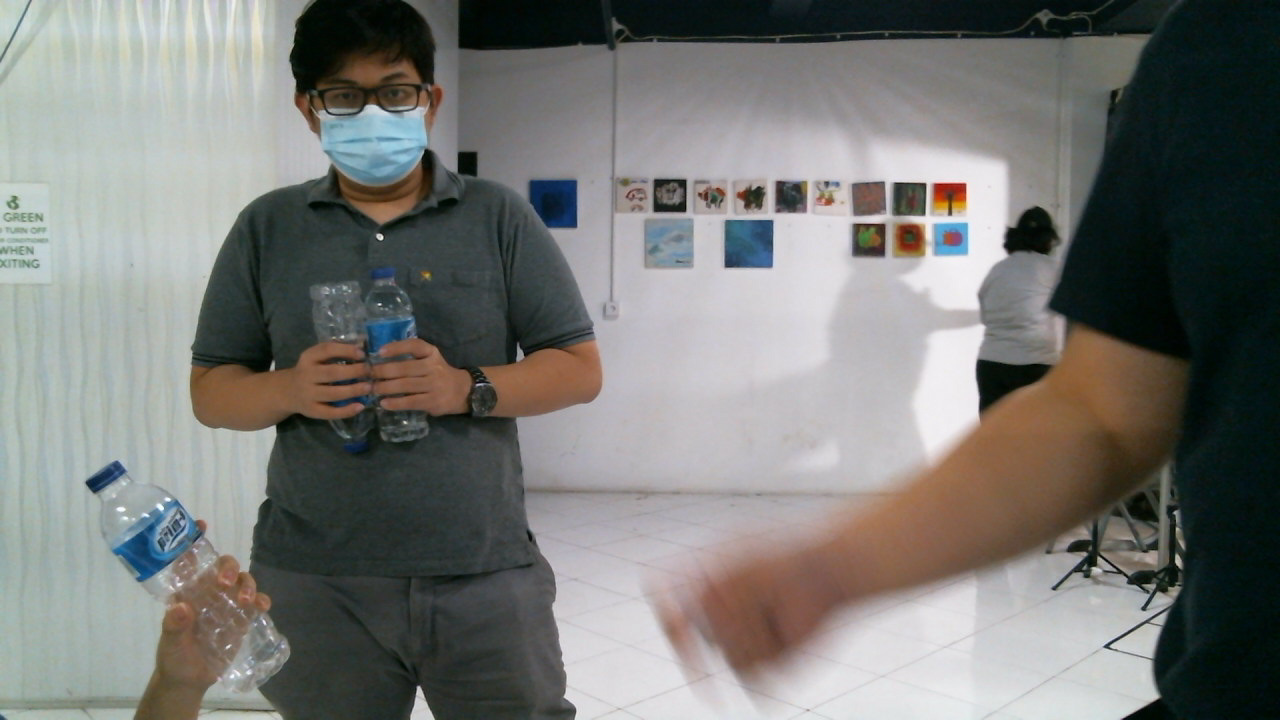Bottle: (92, 454, 288, 692), (366, 263, 434, 442)
